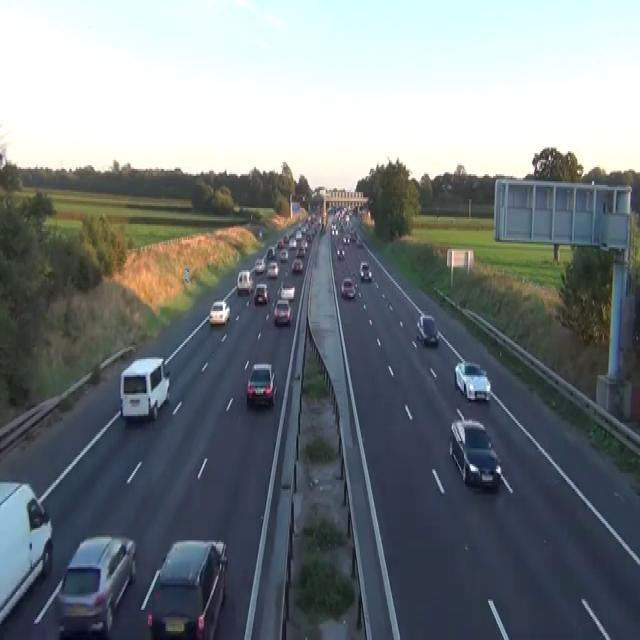Car: (56, 534, 136, 638), (147, 539, 228, 638), (0, 480, 53, 626), (448, 411, 501, 489), (454, 361, 491, 402), (246, 363, 277, 407), (416, 313, 439, 345), (209, 299, 230, 325), (273, 299, 292, 325), (236, 270, 253, 294), (340, 277, 356, 299), (253, 283, 268, 304), (278, 281, 295, 299), (359, 260, 371, 279), (266, 262, 278, 278), (291, 258, 303, 272), (254, 258, 264, 274), (360, 268, 371, 281), (336, 247, 345, 260), (296, 245, 305, 258), (279, 249, 288, 261), (267, 245, 275, 258), (349, 229, 357, 242), (288, 238, 297, 249), (441, 182, 452, 190), (277, 238, 284, 249), (342, 234, 350, 243), (356, 237, 363, 247), (320, 222, 326, 233), (283, 233, 289, 243), (295, 230, 302, 238), (258, 228, 262, 238)
Truck: (119, 356, 170, 422)
